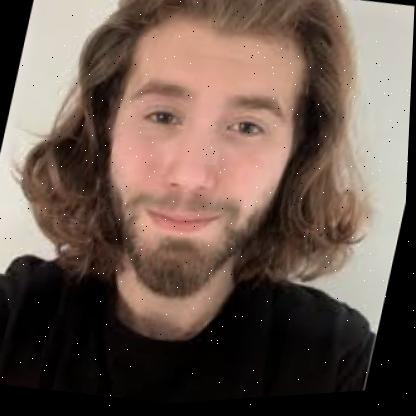person: (43, 0, 351, 332)
